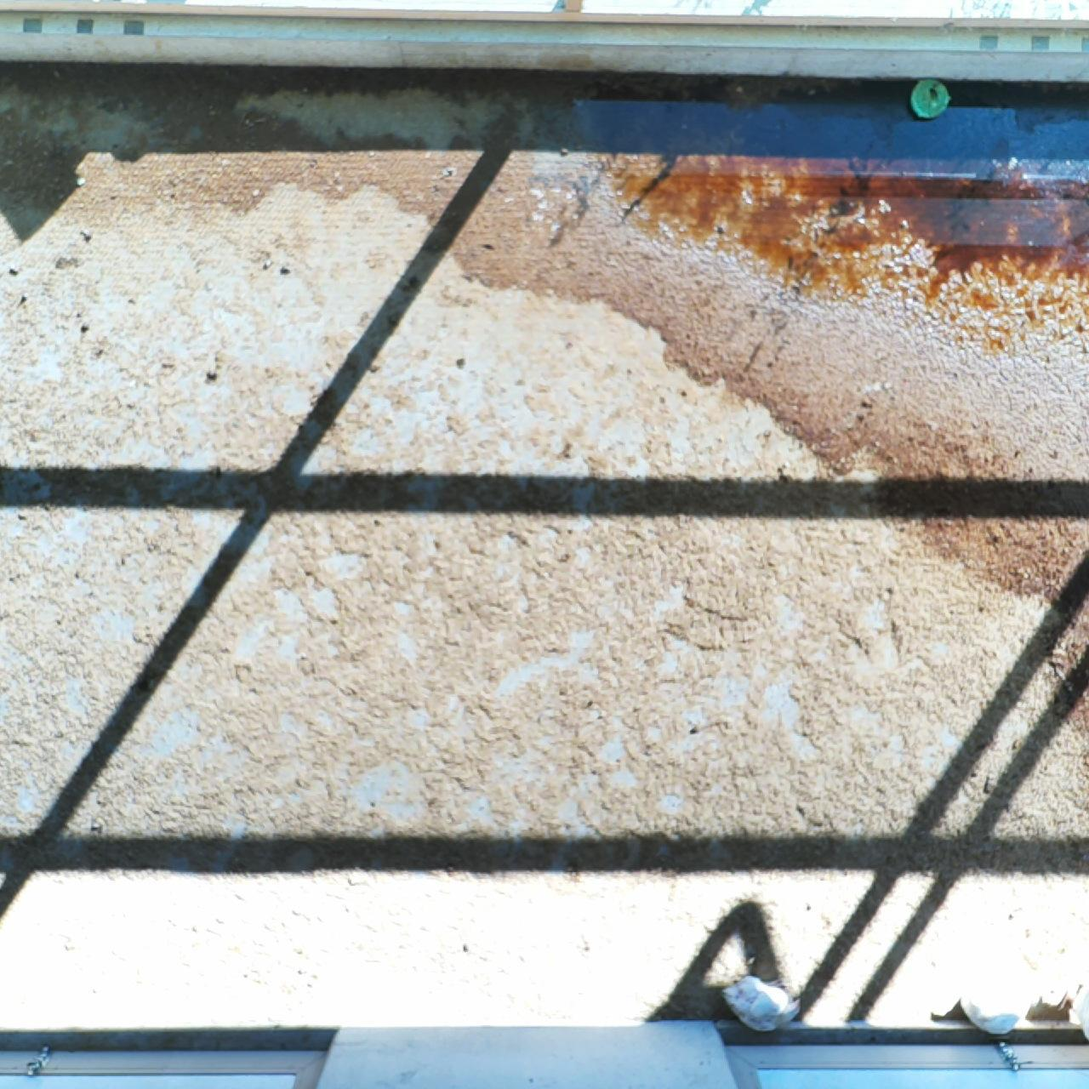chicken: (957, 981, 1029, 1036), (728, 979, 799, 1030)
